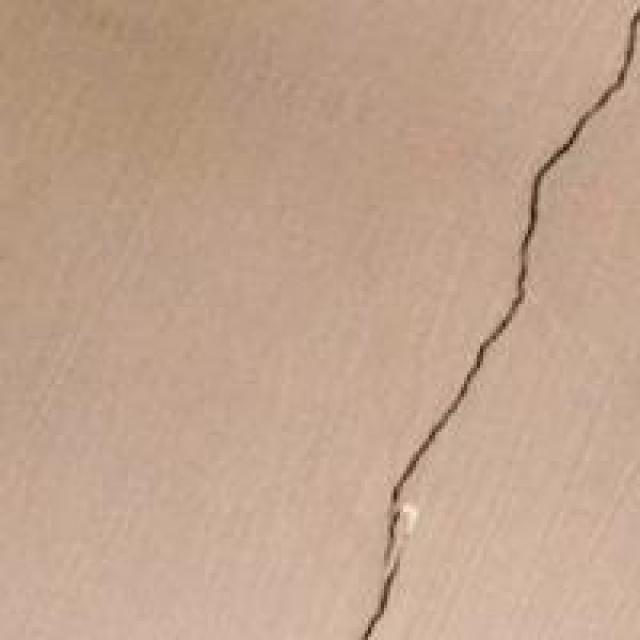crack: (333, 0, 637, 637)
